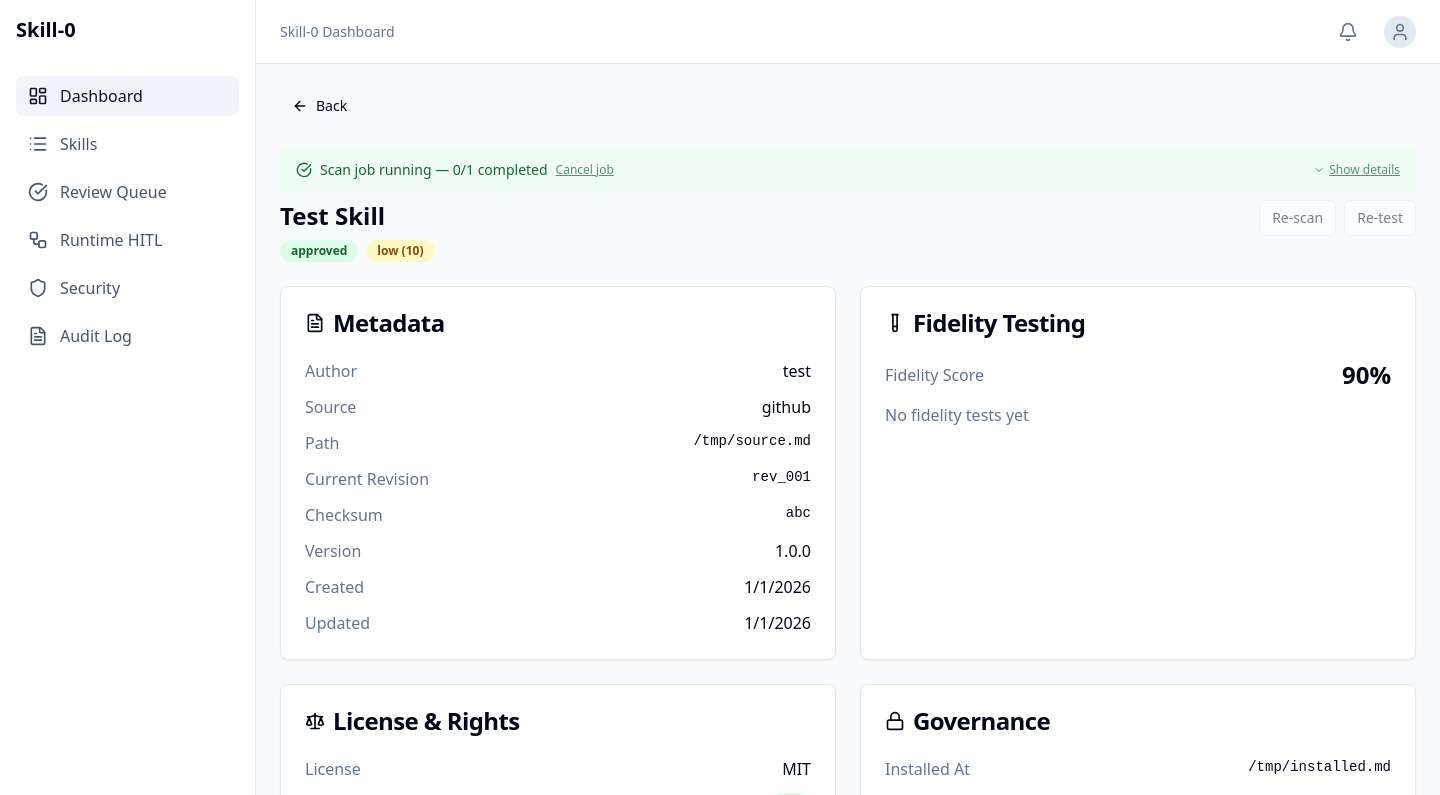
Scenario: SkillDetail async action jobs › shows queued job details when expanded
The image size is (1440, 795).
Click the button "Show details": (1357, 170) [1313,162,1400,178]
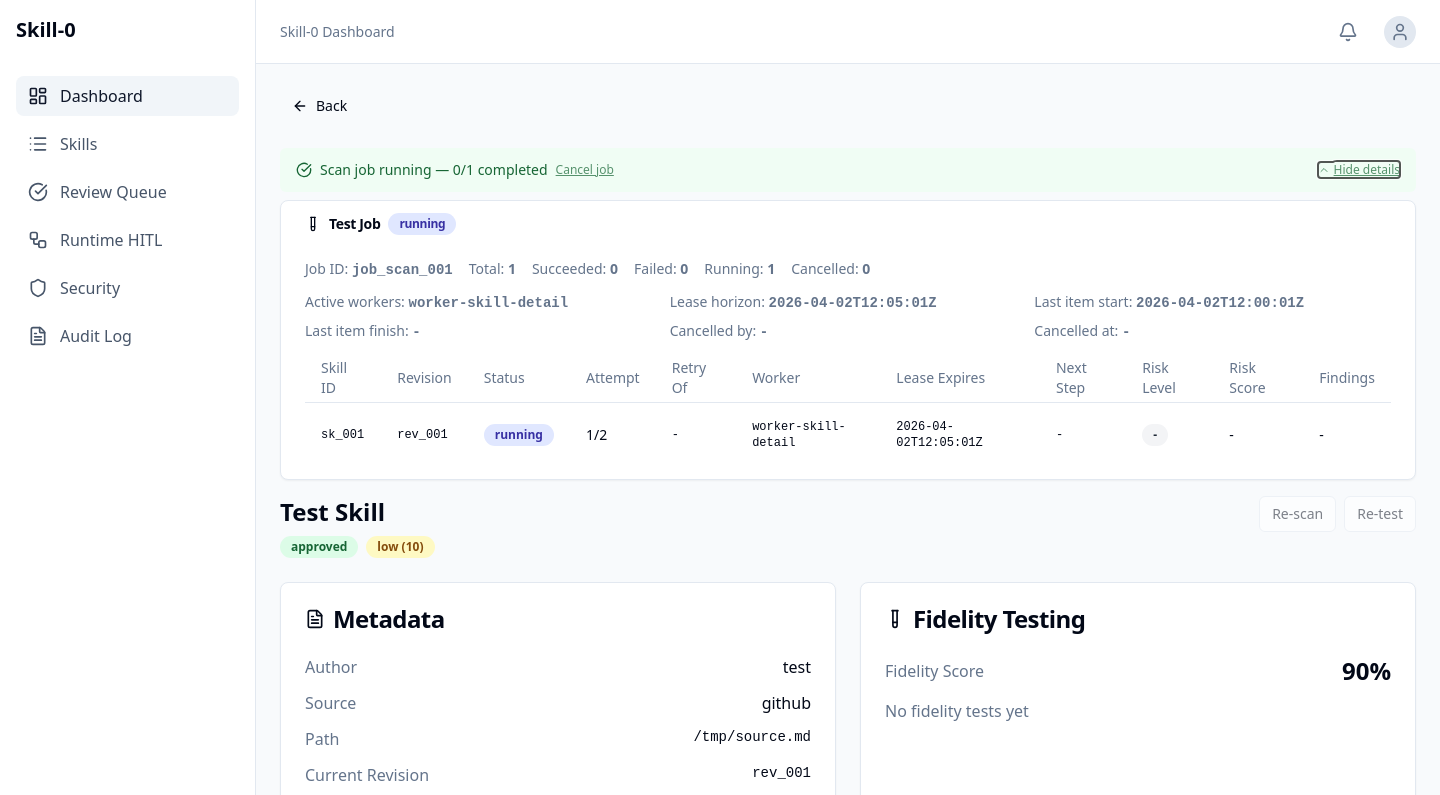
Result: the text "job_scan_001" is shown at [352,262,453,278]
Result: the text "running" is shown 2 times at [388,213,456,235]; [484,424,554,446]
Result: the text "worker-skill-detail" is shown 2 times at [408,295,568,311]; [736,402,880,466]
